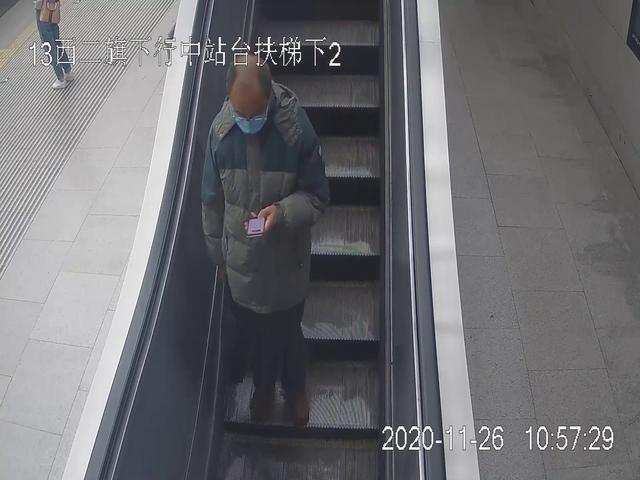person: (201, 55, 328, 424)
